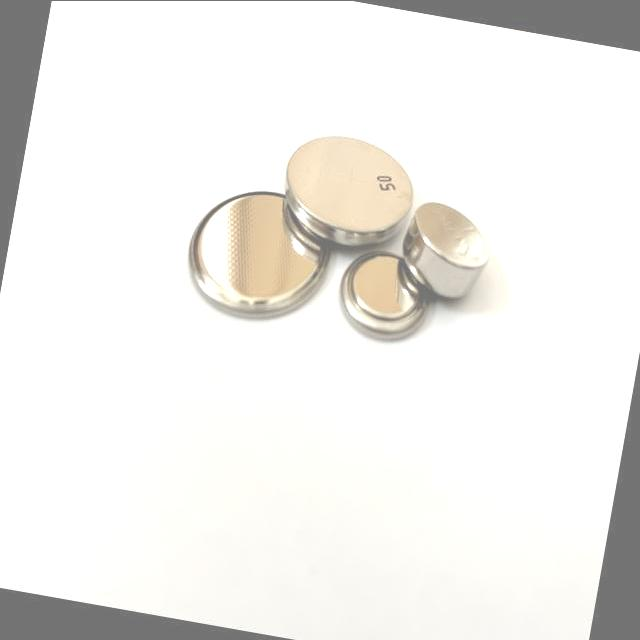COIN: (173, 177, 346, 333), (274, 124, 424, 254), (394, 195, 498, 312), (332, 245, 439, 348)
